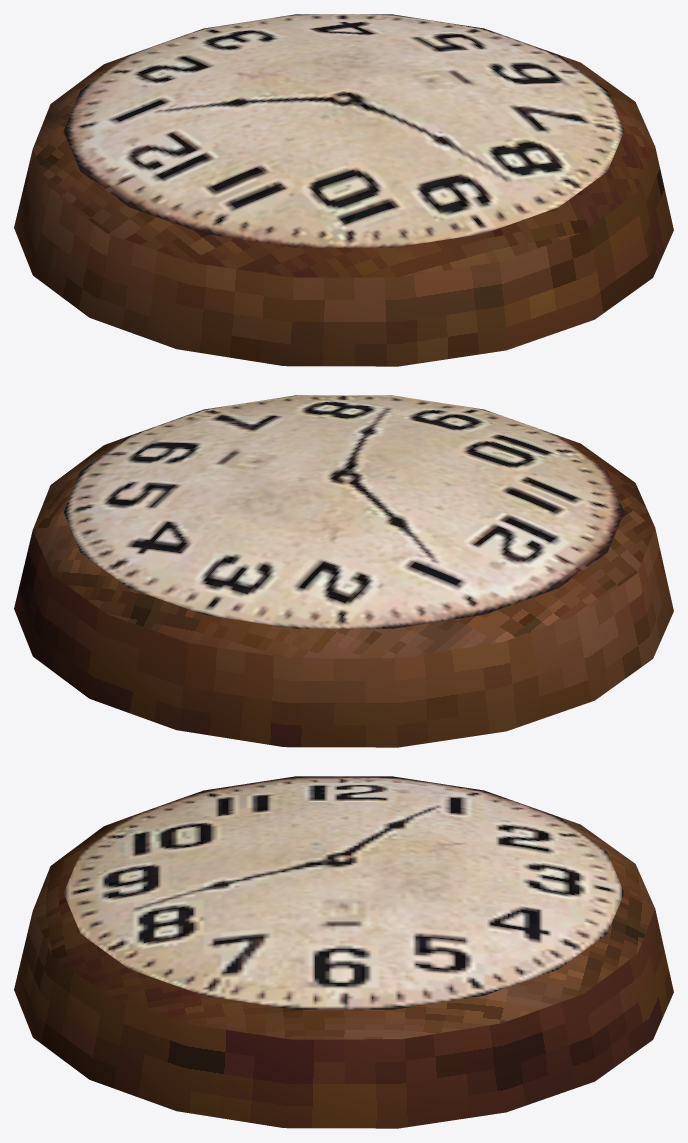
Rendered from clock01.glb.
3 views of the same model, one above another, from view 1: azimuth 30°, elevation 25°; view 2: azimuth 150°, elevation 25°; view 3: azimuth 270°, elevation 25° (orthographic).
Parts seen in each view (by area): view 1: clock01; view 2: clock01; view 3: clock01.
Boxes of the visible parts, bbox=[...] form: clock01: bbox=[14, 14, 673, 366]; clock01: bbox=[14, 395, 673, 747]; clock01: bbox=[14, 776, 673, 1128].
Size of the model in its own units: 0.2859 by 0.0638 by 0.2899.
Materials: 2 (2 with a texture image).
